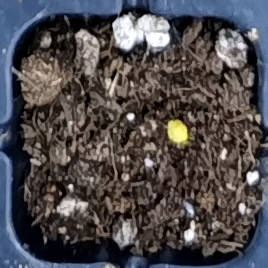chilli seed: (166, 119, 188, 143)
